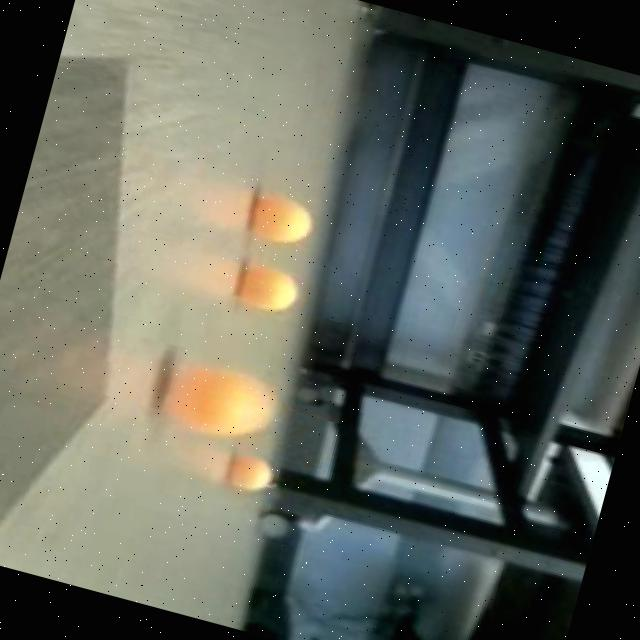ping-pong-ball: (156, 343, 287, 452), (228, 252, 316, 323), (246, 184, 327, 252), (216, 444, 284, 502)
